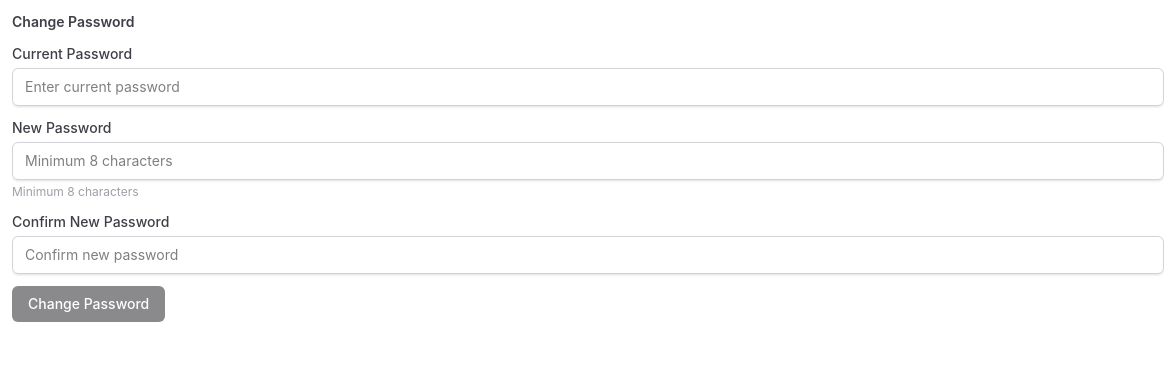
Test case: SettingsAccountTab password change submit › surfaces the server error and keeps the typed passwords when the current password is wrong
Type "wrongpassword" into the password field with placeholder "Enter current password" at (588, 87), box [12,68,1164,106]
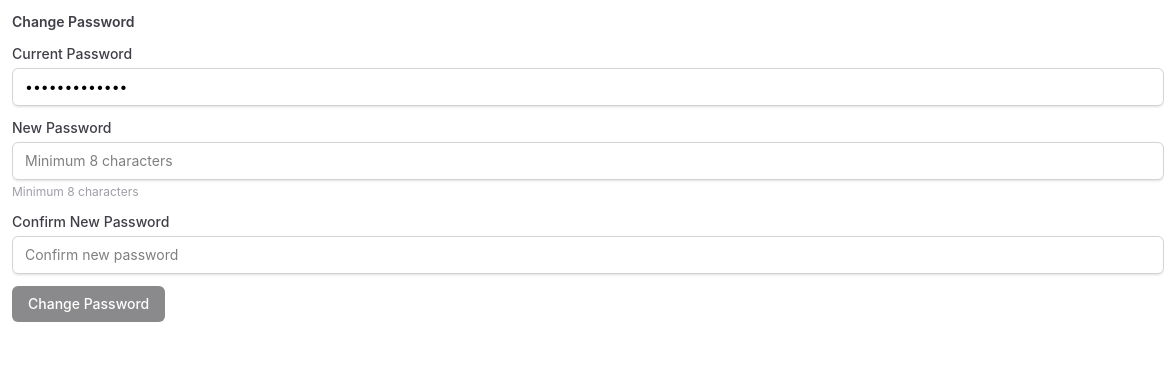
Type "newpassword1" into the password field with placeholder "Minimum 8 characters" at (588, 161), box [12,142,1164,180]
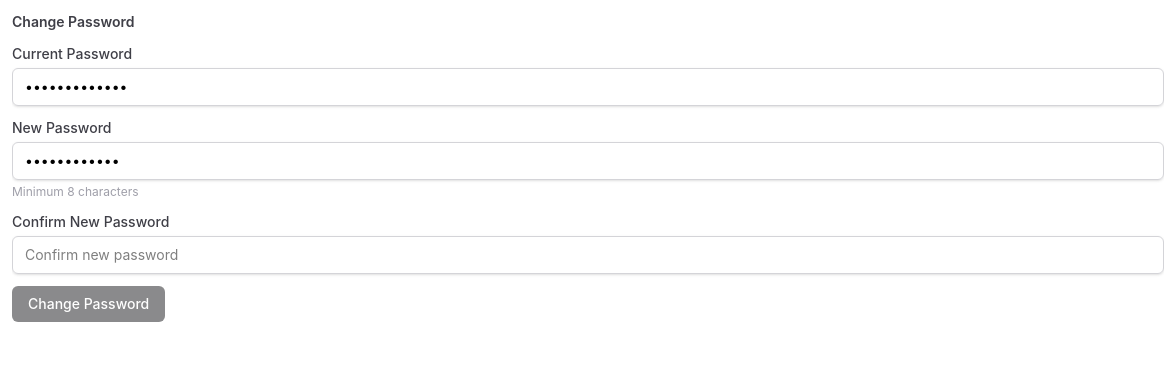
Type "newpassword1" into the password field with placeholder "Confirm New Password" at (588, 255), box [12,236,1164,274]
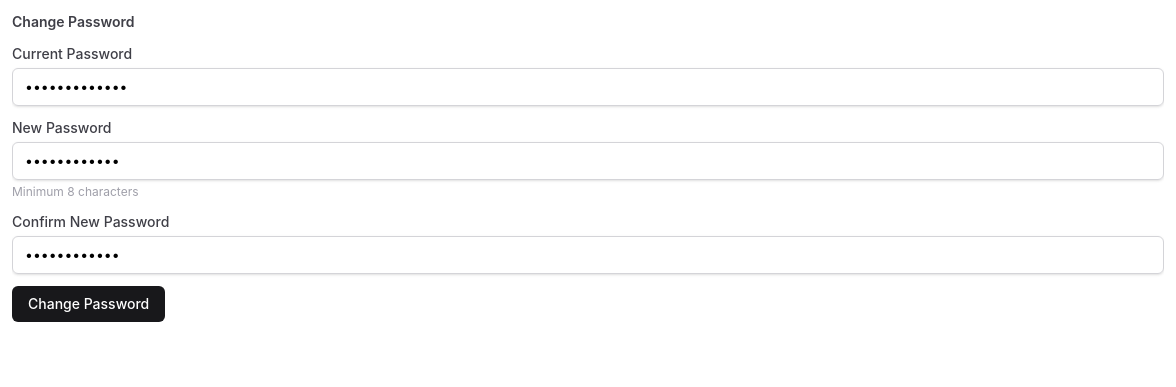
Click the button "Change Password" at (89, 304), box [12,286,165,322]
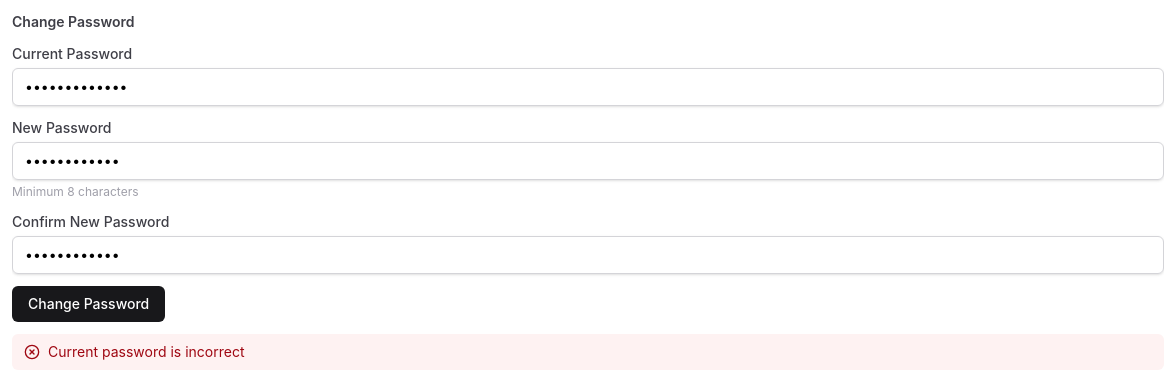
Check: the text "Current password is incorrect" is shown, box [12,334,1164,370]
